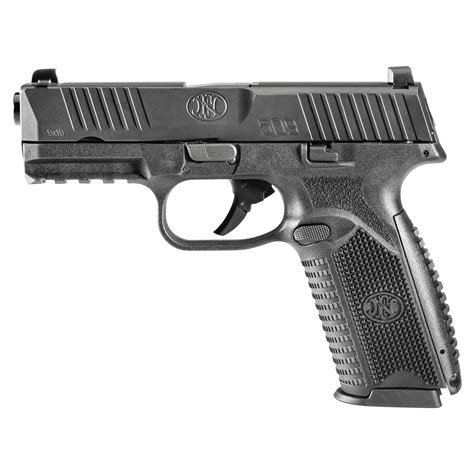gun: (12, 64, 461, 410)
